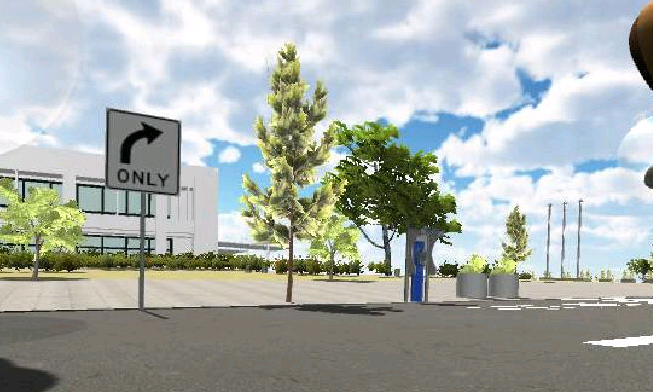arrow_right: (118, 121, 166, 164)
